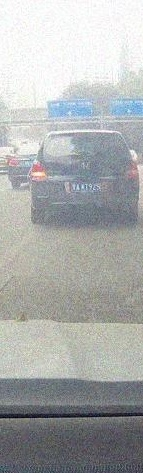L_light: (31, 160, 47, 181)
R_light: (124, 159, 139, 180)
T_light: (78, 133, 90, 137)
day-left: (30, 130, 139, 224)
